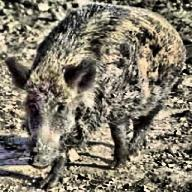boar: (4, 1, 187, 190)
